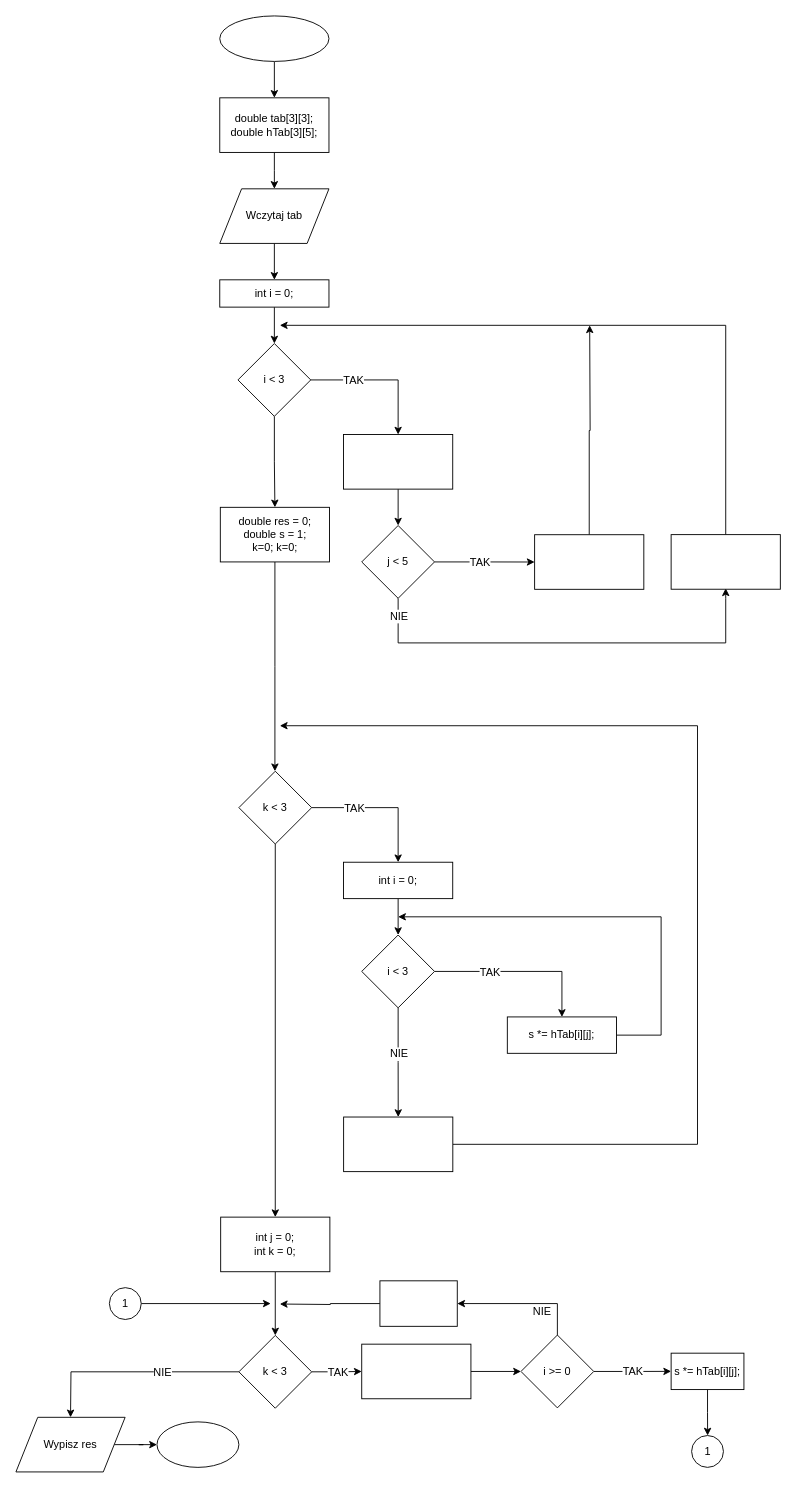
Some shapes in this 796 by 1488 pixel diagram are drawn without their labels. Each missing label, with the centre of its shape:
hTab[i][j] = tab[i][k] ; k++; j++;: the point at 589,561
i++;: the point at 725,561
int i = 2;: the point at 416,1371
int j = 3; int k = 0;: the point at 398,461
res += s; s = 1; j = k + 1;: the point at 398,1144
res -= s; s = 1; j = k + 1;: the point at 418,1303
START: the point at 274,38
STOP: the point at 197,1444
